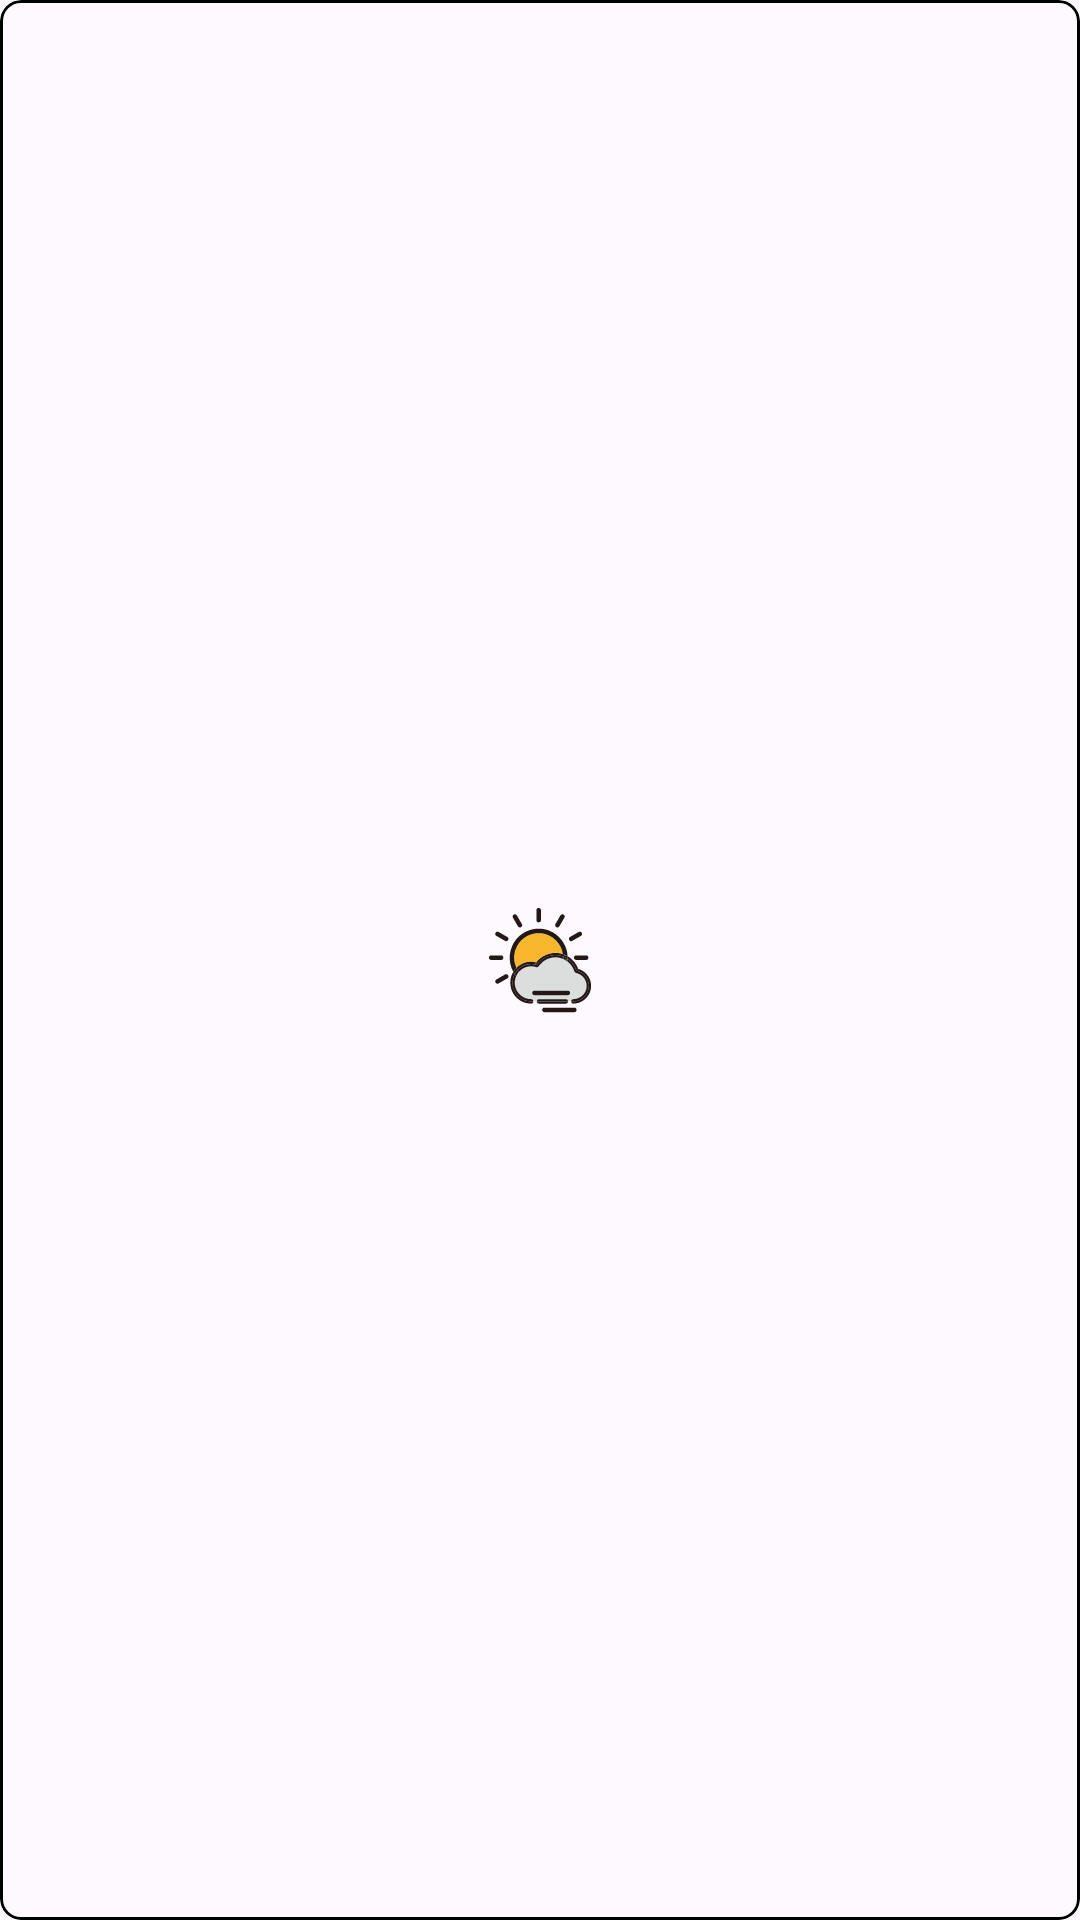

Icon bounding boxes for this 1080 x 1920 phone screenshot, format (x1, y1, x2, y2):
fog foggy weather: (489, 908, 591, 1013)
